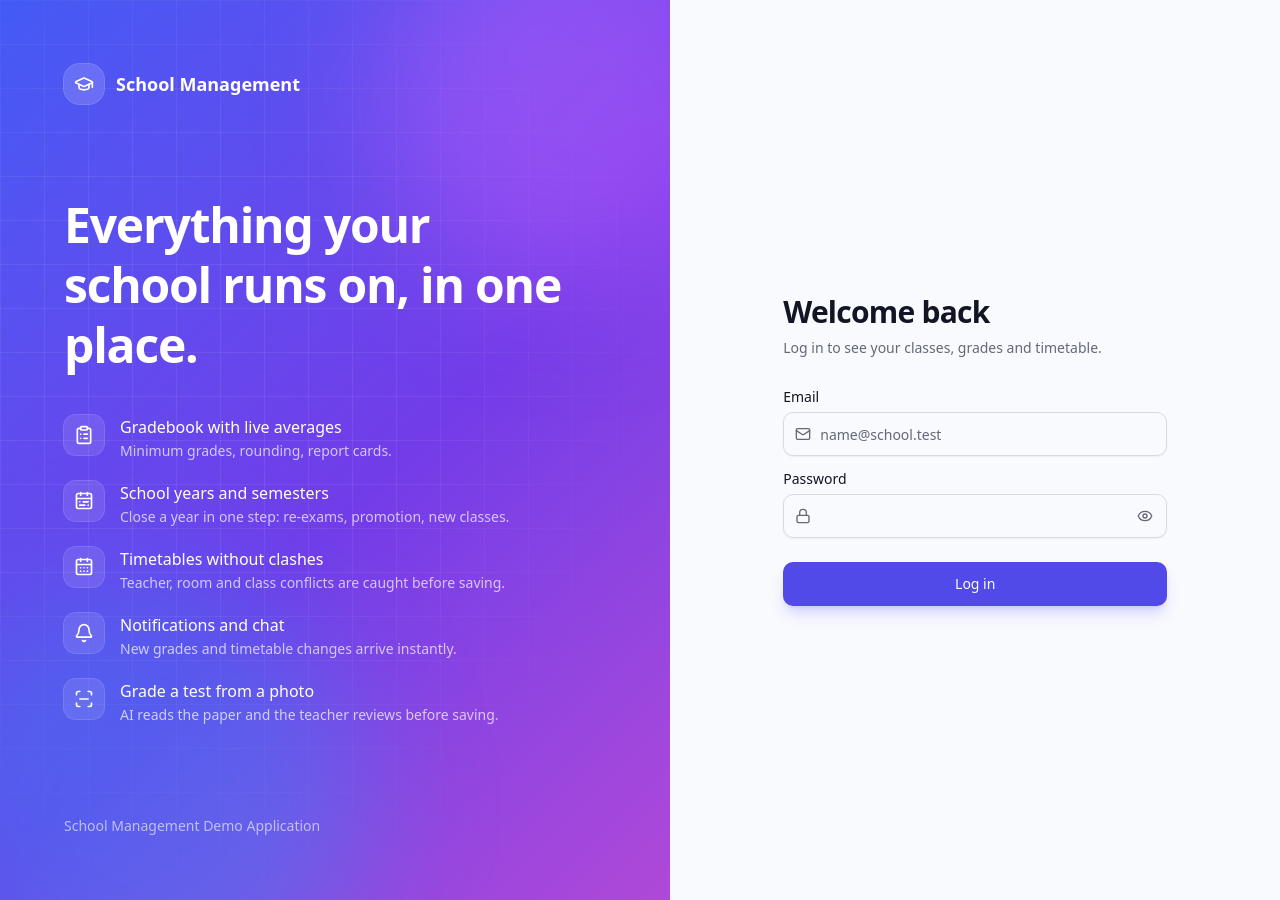
Scenario: LoginPage › shows the error returned by the API
Type "admin@school.test" into the field labelled "Email" at [975, 434], box x1=783 y1=412 x2=1167 y2=456
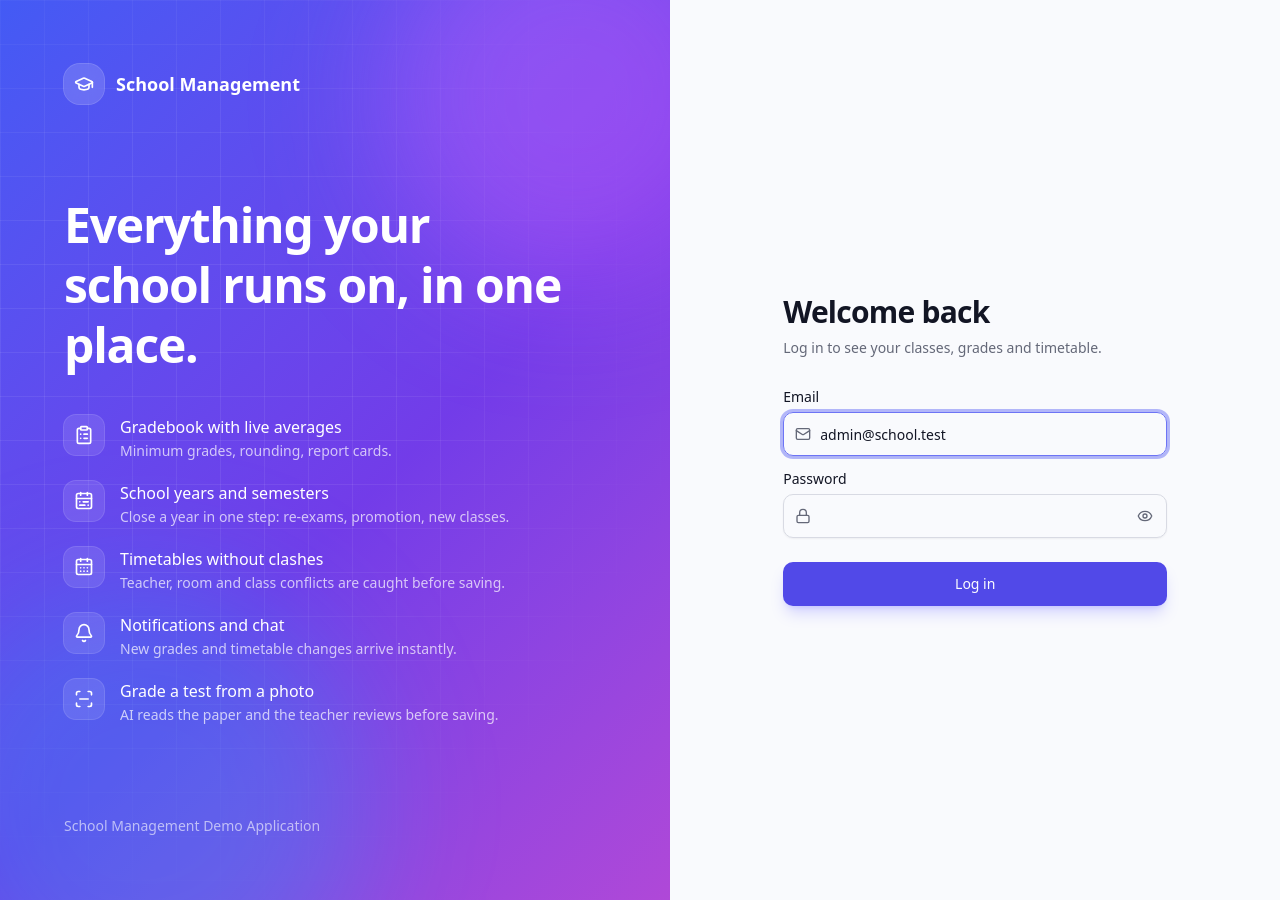
Type "wrong" into the password field labelled "Password" at [975, 516], box x1=783 y1=494 x2=1167 y2=538
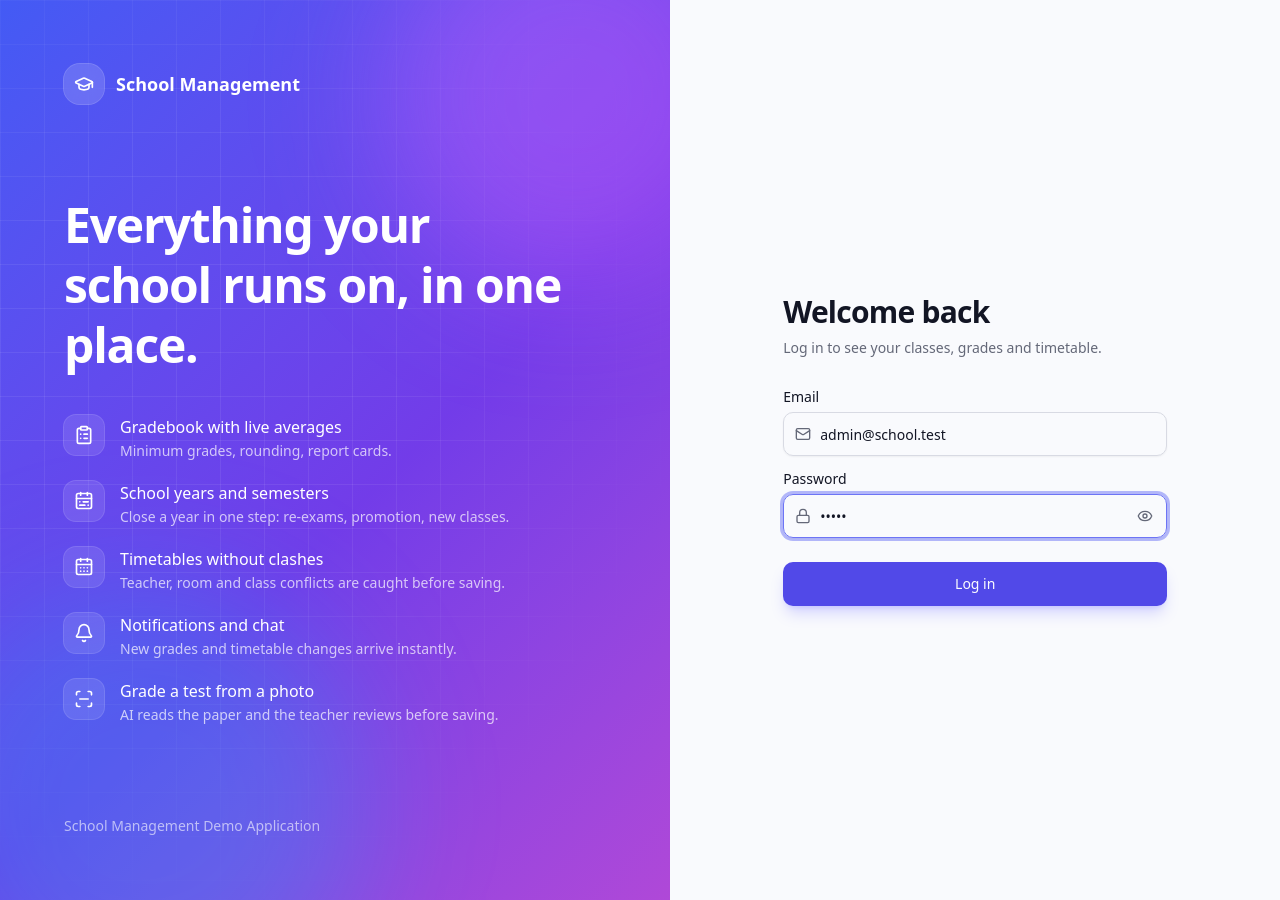
Click the button "Log in" at [975, 584], box x1=783 y1=562 x2=1167 y2=606
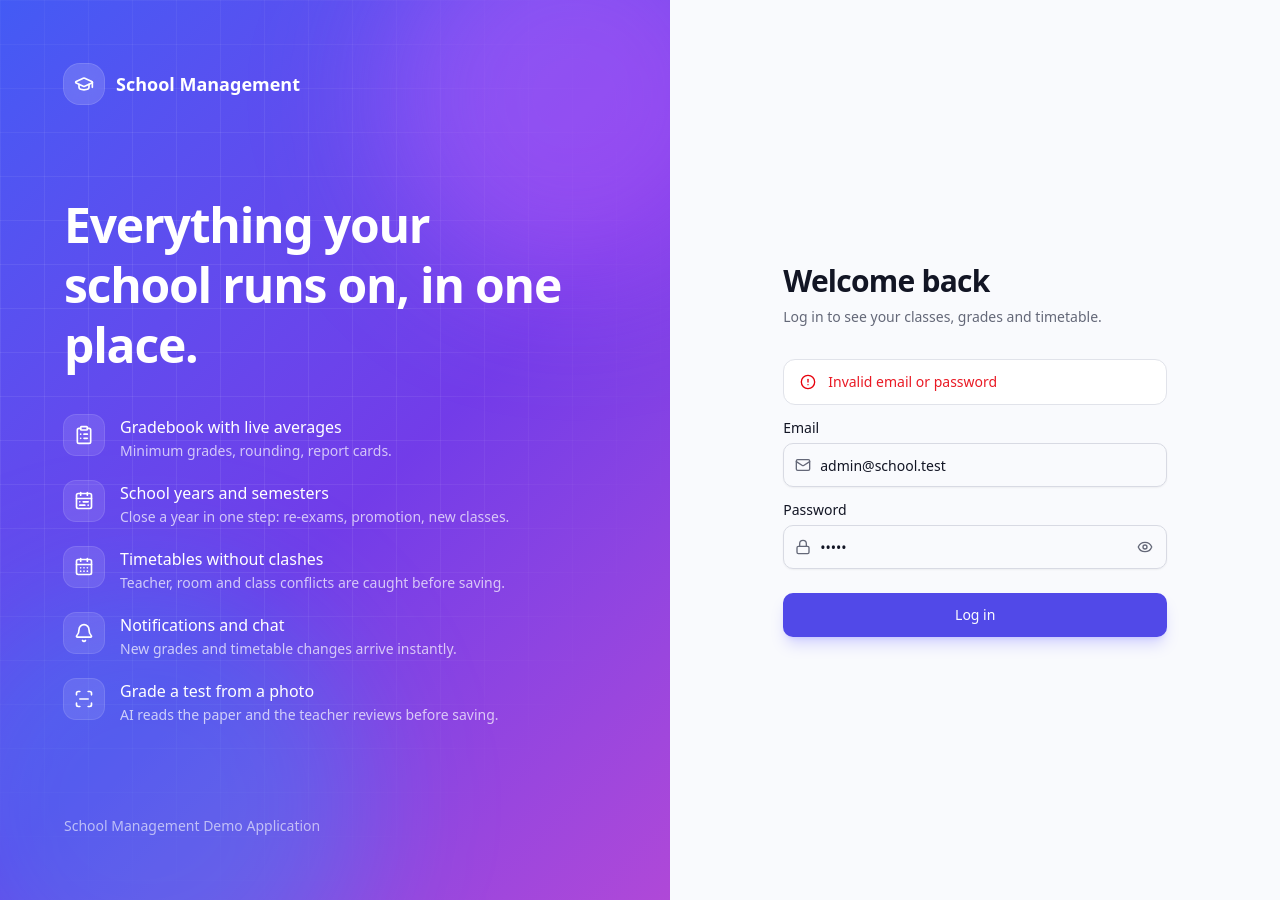
Now the text "Invalid email or password" is shown, box x1=828 y1=372 x2=997 y2=391
